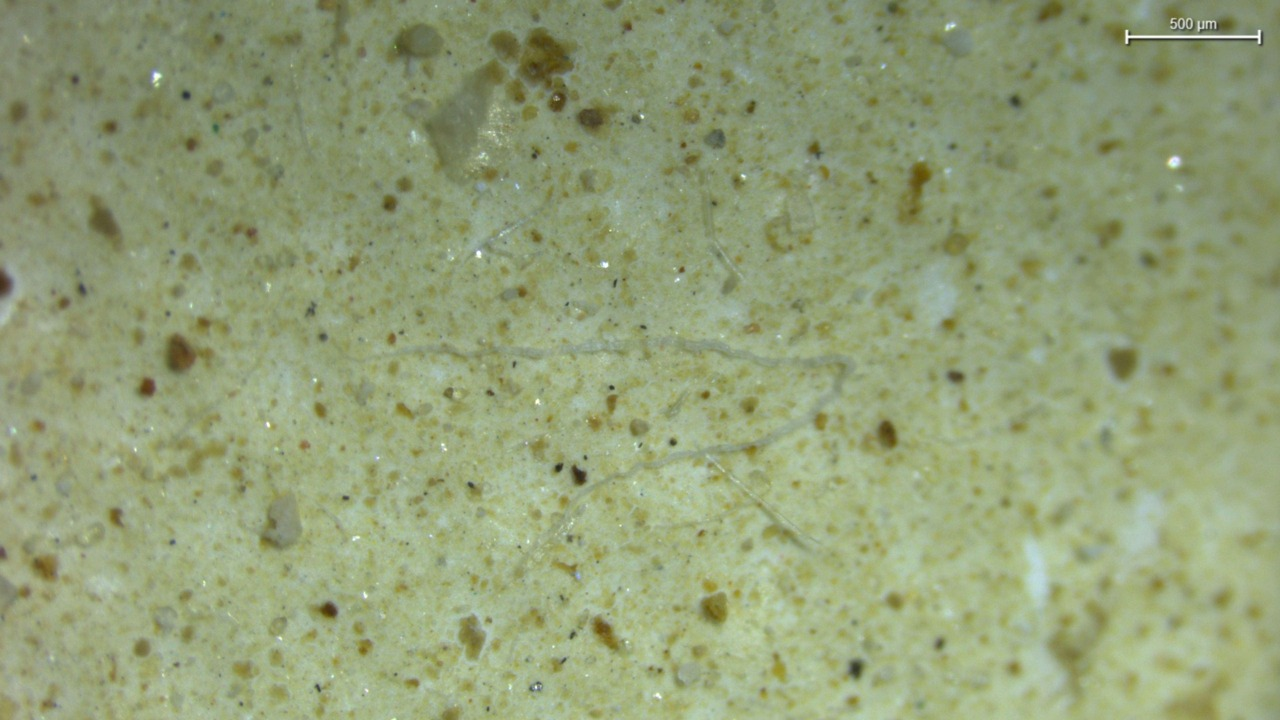microplastic_fragment: (261, 494, 302, 548), (396, 24, 443, 58)
